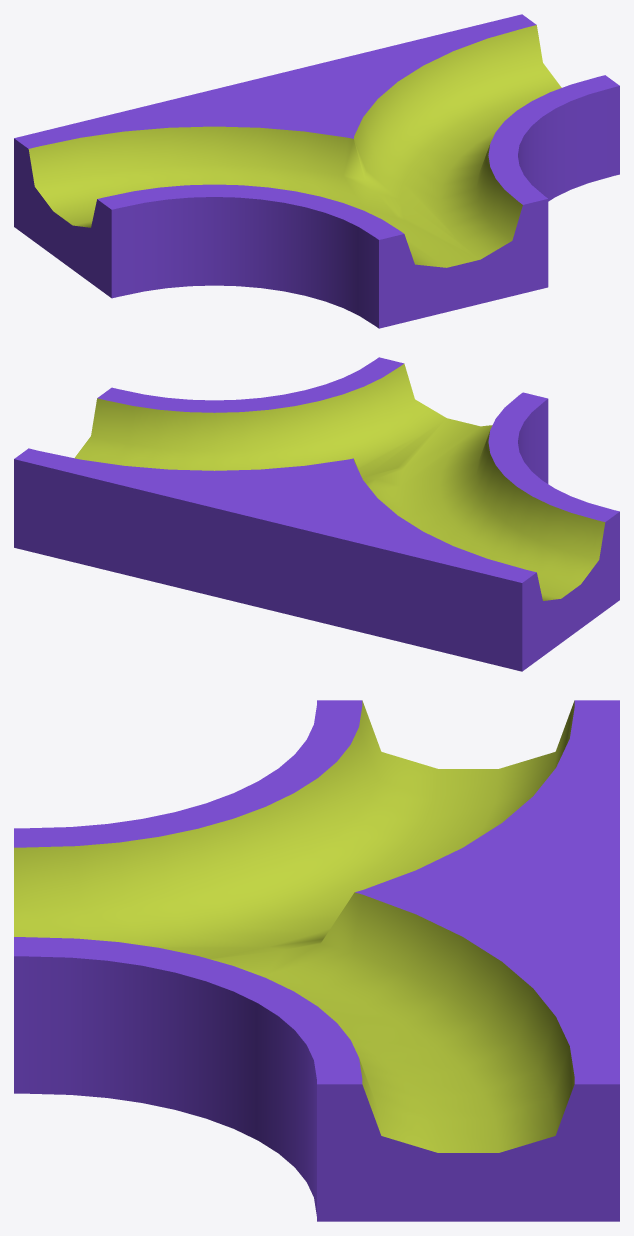
The model's file is split_double_sides_solid-col.dae.
3 renders of one model, top to bottom at view 1: azimuth 30°, elevation 25°; view 2: azimuth 150°, elevation 25°; view 3: azimuth 270°, elevation 25°, orthographic. The views are drawn at different scales.
Visible parts, largest first — view 1: split_double_sides_solid-col; view 2: split_double_sides_solid-col; view 3: split_double_sides_solid-col.
Boxes of the visible parts, left/top/right/bottom form: split_double_sides_solid-col: left=14, top=14, right=619, bottom=328; split_double_sides_solid-col: left=14, top=357, right=619, bottom=671; split_double_sides_solid-col: left=14, top=700, right=619, bottom=1221.
Bounding box in the file's own units: 3 × 2 × 0.5.
